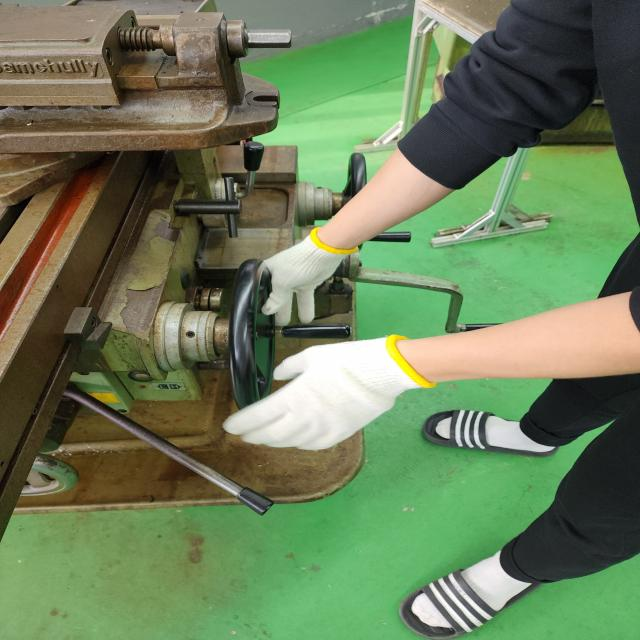Boots: (222, 337, 439, 452), (265, 231, 353, 324)
